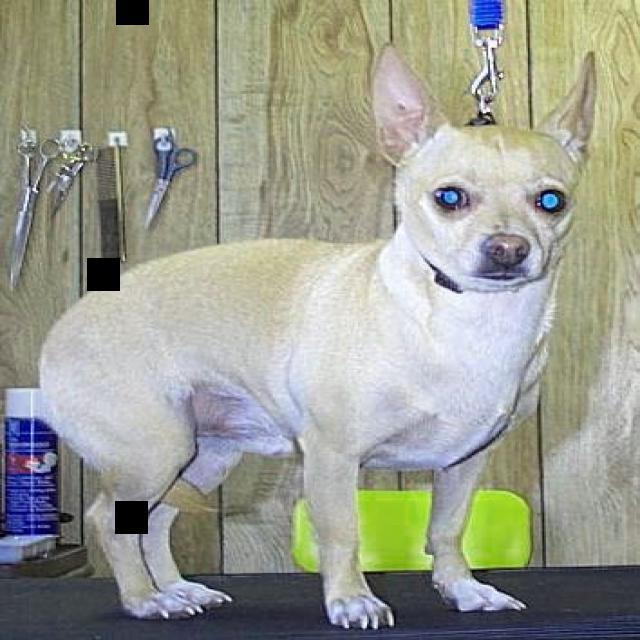adult_dog: (27, 43, 593, 630)
